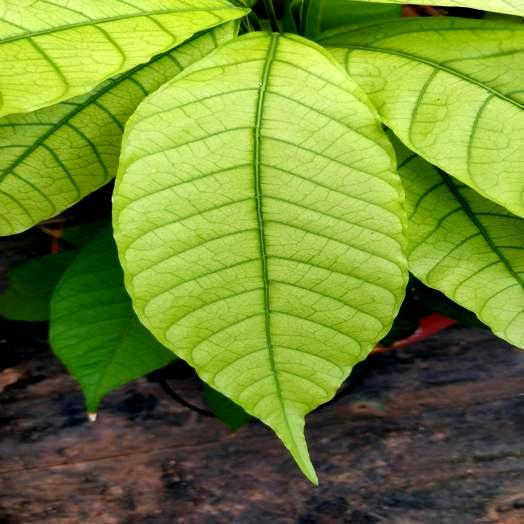Healthy Leaf: (50, 226, 174, 416)
Iron: (115, 36, 406, 478), (0, 22, 232, 234), (325, 17, 523, 215), (0, 0, 246, 115), (391, 138, 523, 346)
